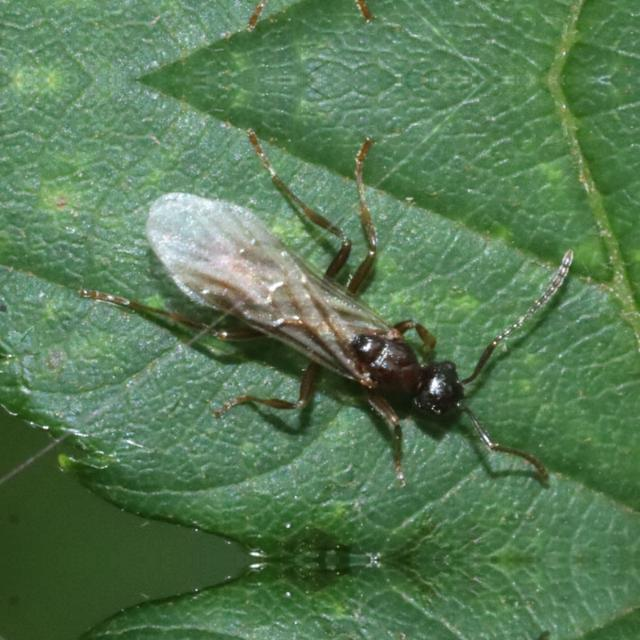Myrmica: (92, 160, 578, 494)
